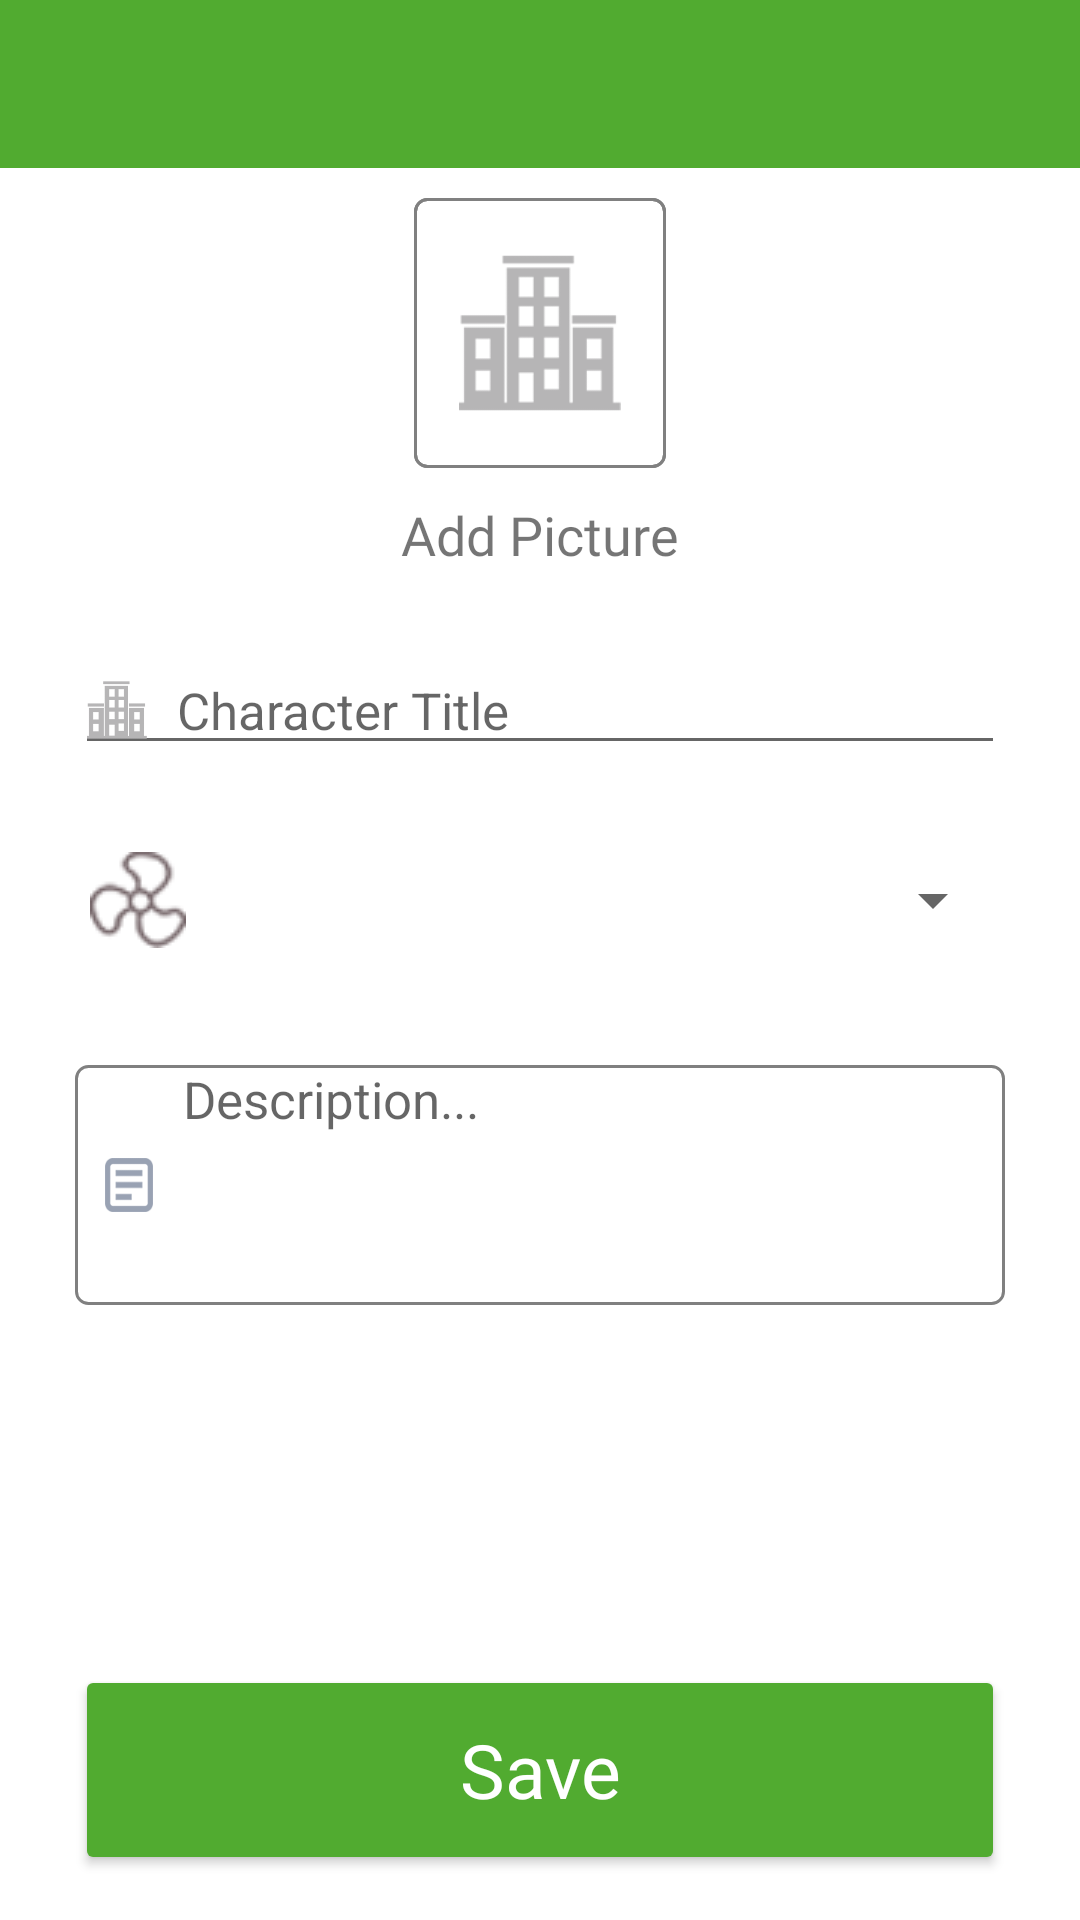

Screen size 1080px×1920px. Icon name, then its box in pixels as (x1, y1, x2, y2):
appartment: (414, 198, 666, 468)
fan: (90, 852, 186, 948)
